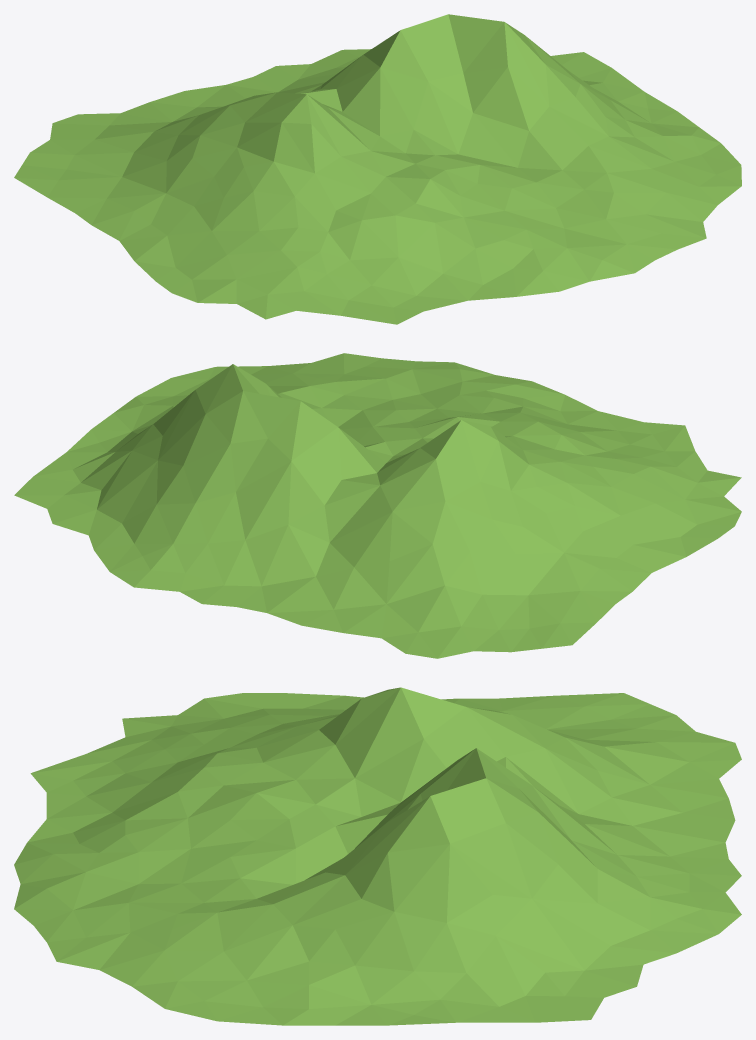
The model's file is MT_Mountain_M_a_20.fbx.
3 renders of one model, top to bottom at view 1: azimuth 30°, elevation 25°; view 2: azimuth 150°, elevation 25°; view 3: azimuth 270°, elevation 25°, orthographic. The views are drawn at different scales.
Visible parts, largest first — view 1: MT_Mountain_M_a_20; view 2: MT_Mountain_M_a_20; view 3: MT_Mountain_M_a_20.
Part boxes in pixels (left/top/right/bottom): MT_Mountain_M_a_20: left=14, top=14, right=741, bottom=324; MT_Mountain_M_a_20: left=14, top=353, right=741, bottom=658; MT_Mountain_M_a_20: left=14, top=687, right=741, bottom=1025.
Size of the model in its own units: 4688 by 910 by 4336.
